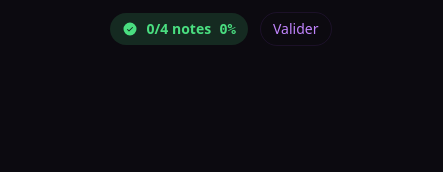
it: PracticeValidator › moving to a different note re-enables validation and counts it separately
Later steps or results of the test are not shown.
Click the button "Valider": (296, 29) [260,12,332,46]
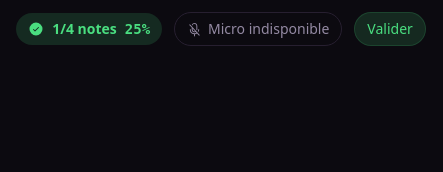
expect the text "1/4 notes" is shown: met, box [52,19,117,39]
